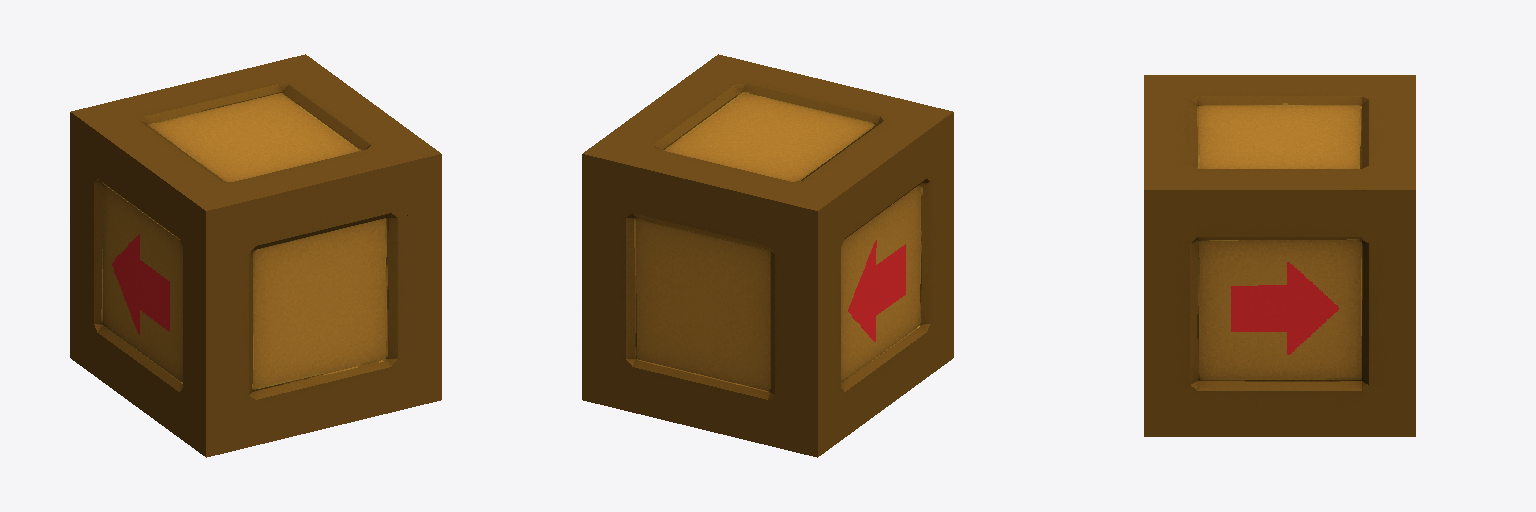
The picture shows the model from 3 angles: view 1: azimuth 30°, elevation 25°; view 2: azimuth 150°, elevation 25°; view 3: azimuth 270°, elevation 25°; orthographic projection.
Parts seen in each view (by area): view 1: textureBakeSet2 pCube1; view 2: textureBakeSet2 pCube1; view 3: textureBakeSet2 pCube1.
Boxes of the visible parts, box(x1,y1,x2,y2) form: textureBakeSet2 pCube1: box(70, 54, 441, 457); textureBakeSet2 pCube1: box(582, 54, 953, 457); textureBakeSet2 pCube1: box(1144, 75, 1415, 436).
Size of the model in its own units: 3.83 by 3.83 by 3.83.
Materials: 1 (1 with a texture image).